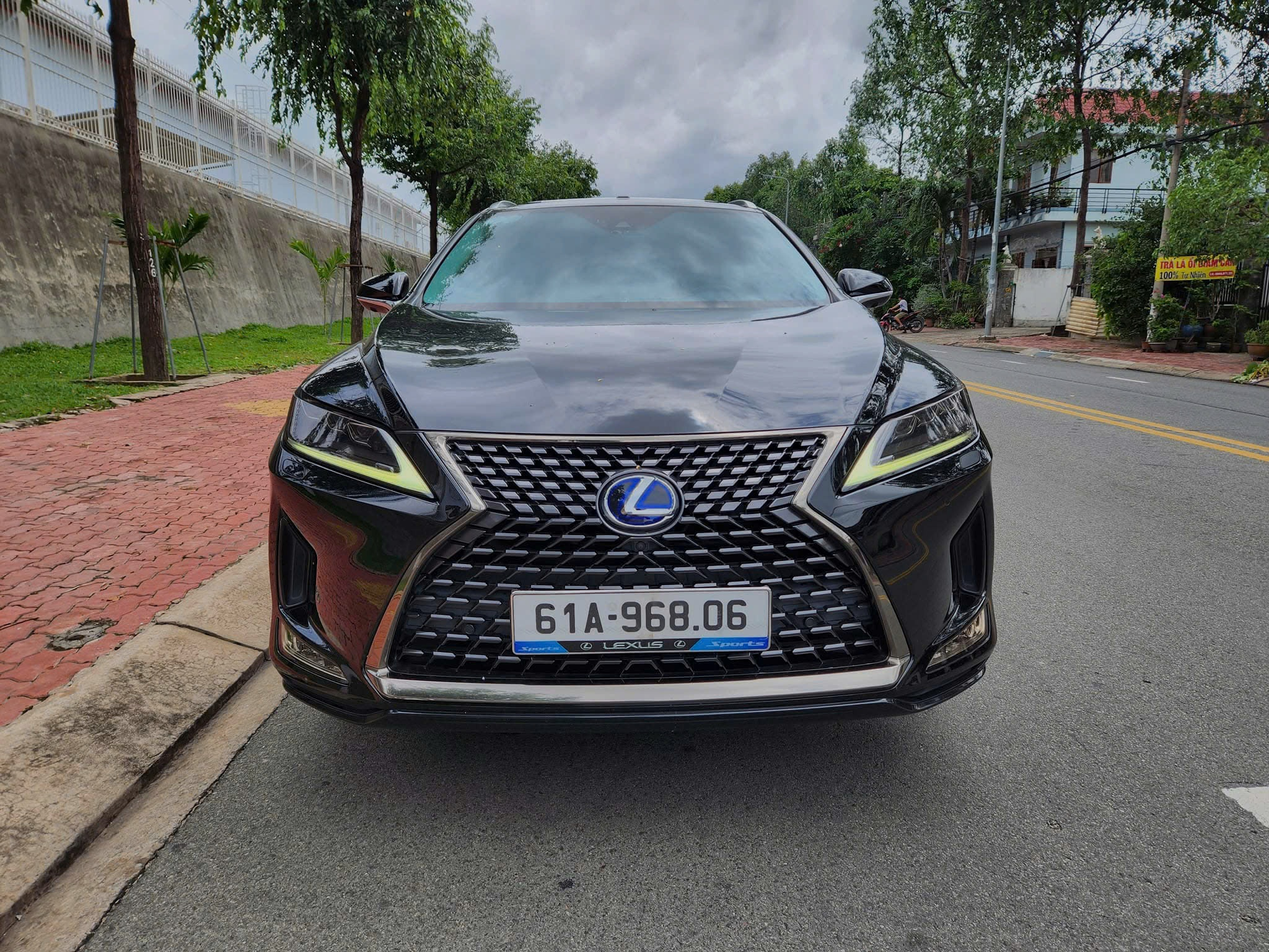Bien-so: (530, 600, 790, 663)
